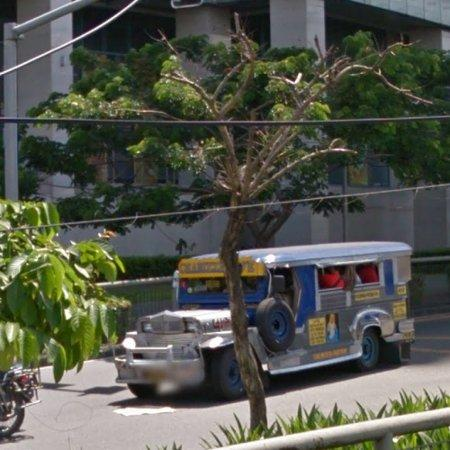buses: (241, 242, 416, 376), (116, 254, 242, 398)
